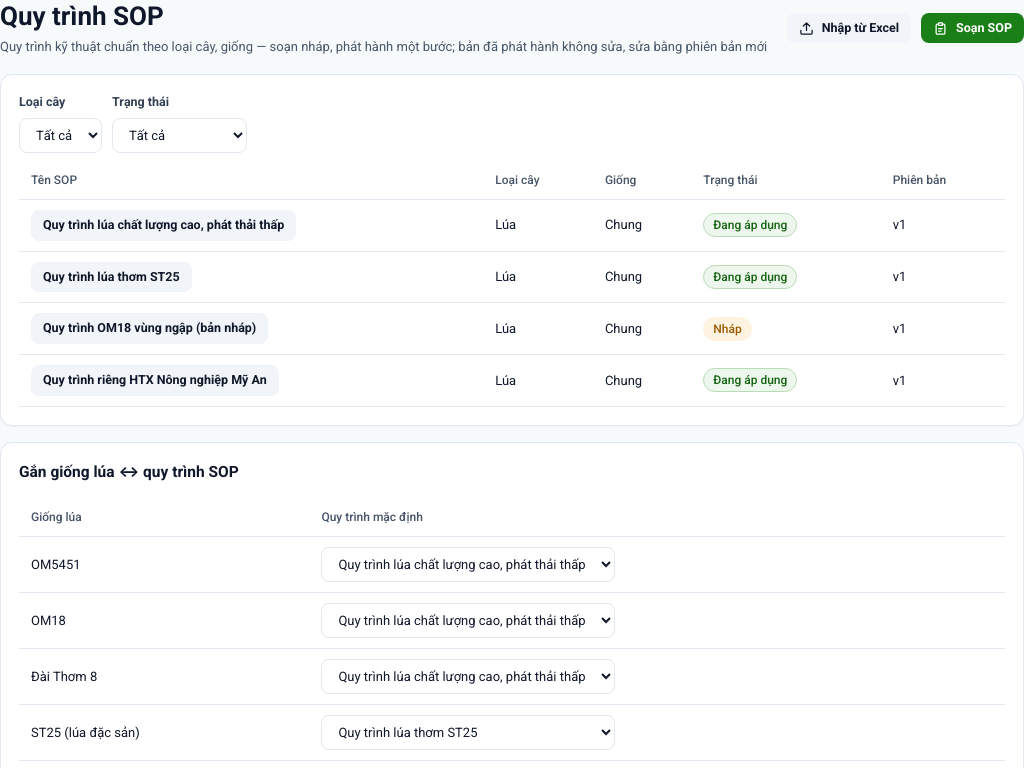
Test: Màn Quy trình SOP (AH-8) › AC1: thư viện liệt kê tên, loại cây, giống, trạng thái, phiên bản; soạn và lưu → SOP ở trạng thái Nháp
This screenshot has width=1024, height=768.
expect the button "Quy trình lúa thơm ST25" is shown: met, box [31,262,192,292]
expect the 1st text "Chung" is shown: met, box [593,200,691,251]
Click the button "Soạn SOP": (973, 28) [921,13,1023,43]
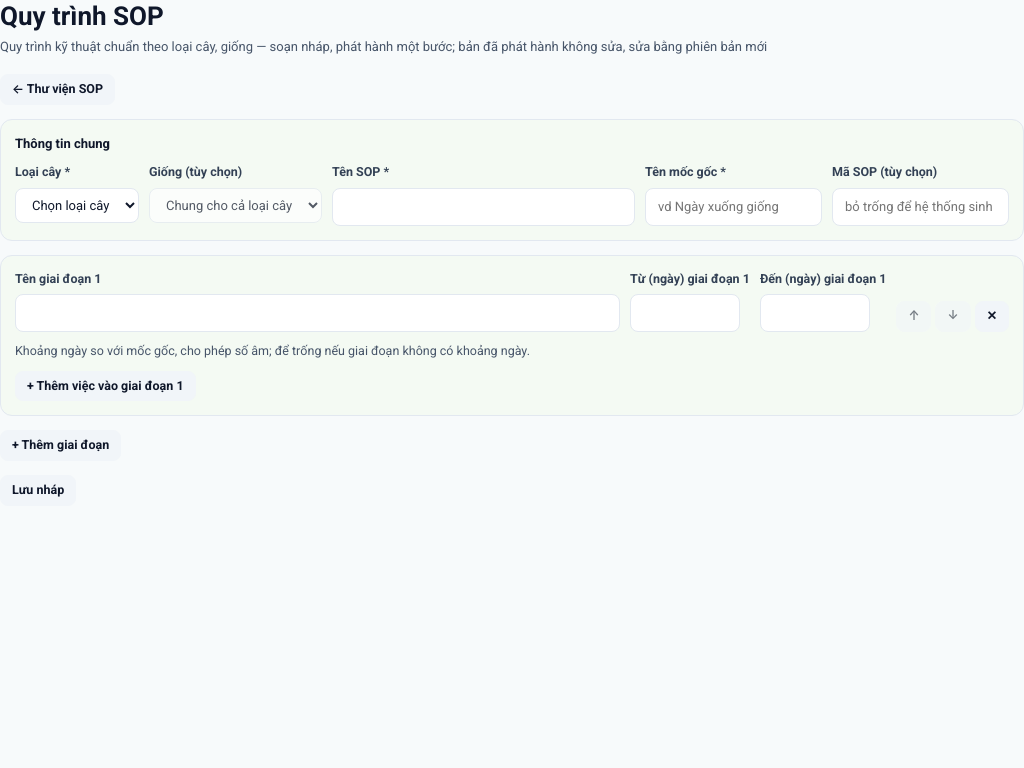
expect the element "Thông tin chung" is shown: met, box [0,119,1023,241]
Select "Lúa" in the dropdown labelled "Loại cây *": (77, 206) [15,188,139,223]
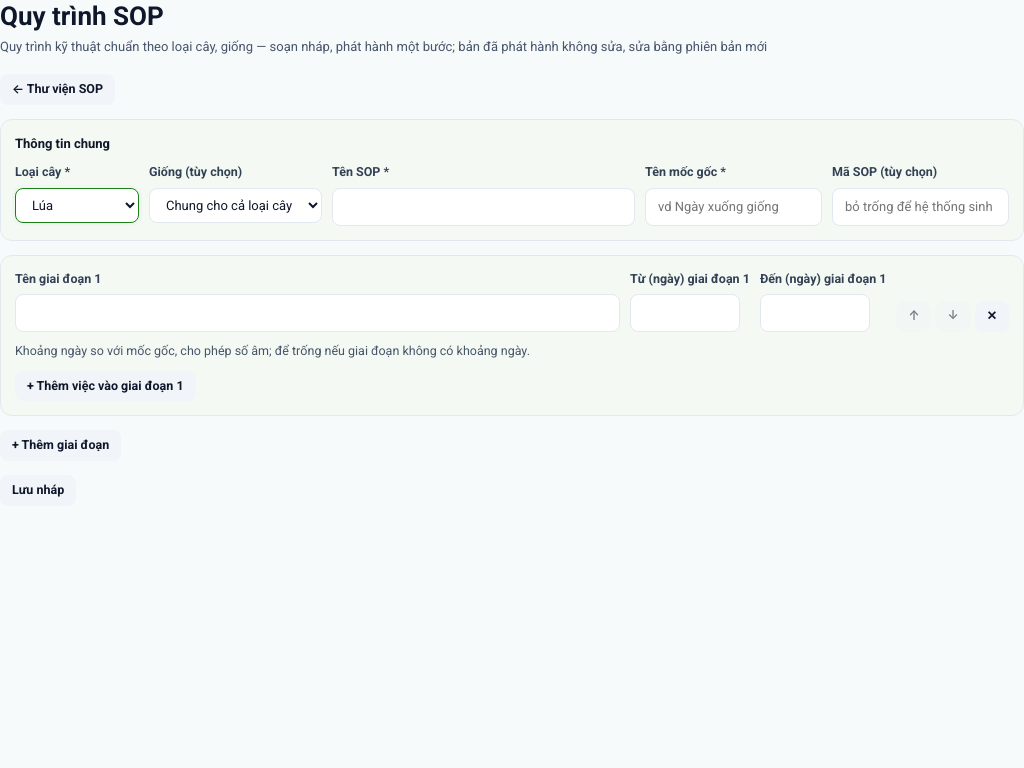
In the field labelled "Tên SOP *": (484, 207) [332,188,635,226], type "SOP thử màn hình AC1"
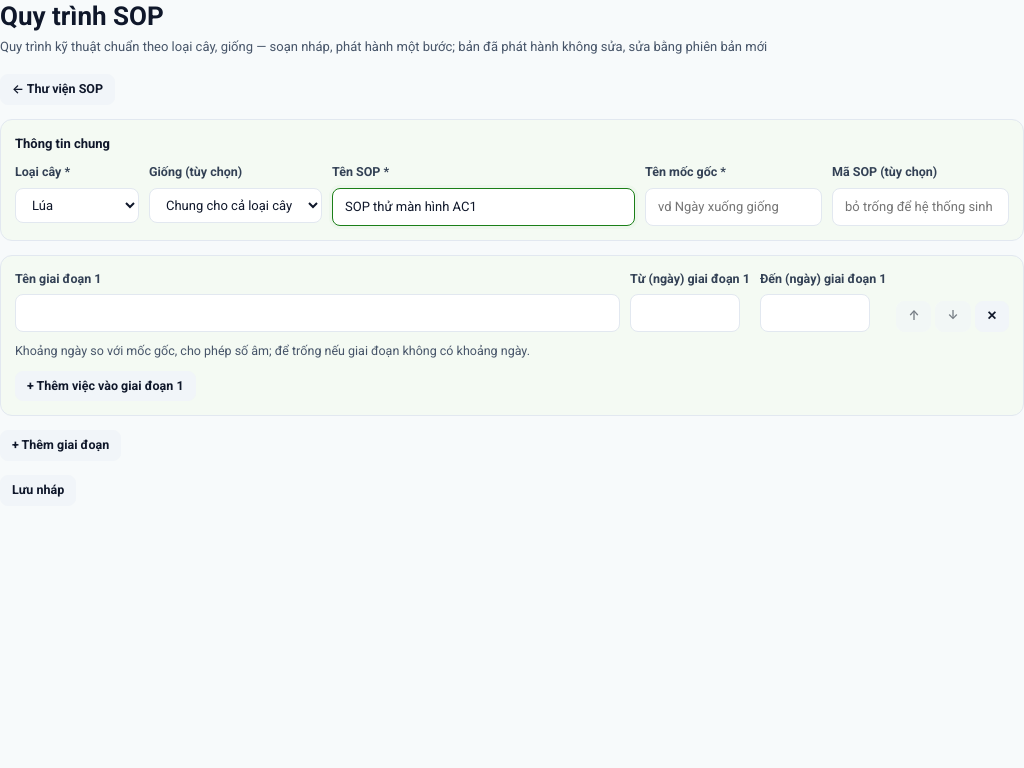
In the field labelled "Tên mốc gốc *": (734, 207) [645,188,822,226], type "Ngày xuống giống"
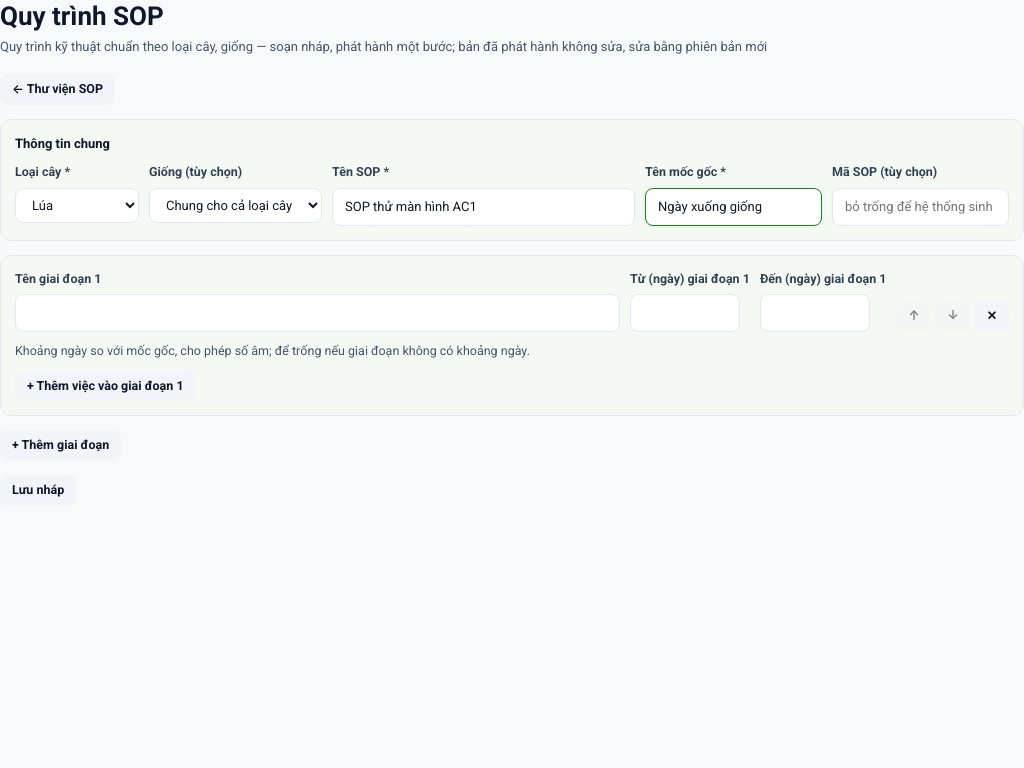
In the field labelled "Tên giai đoạn 1": (318, 313) [15,294,620,332], type "Chuẩn bị"
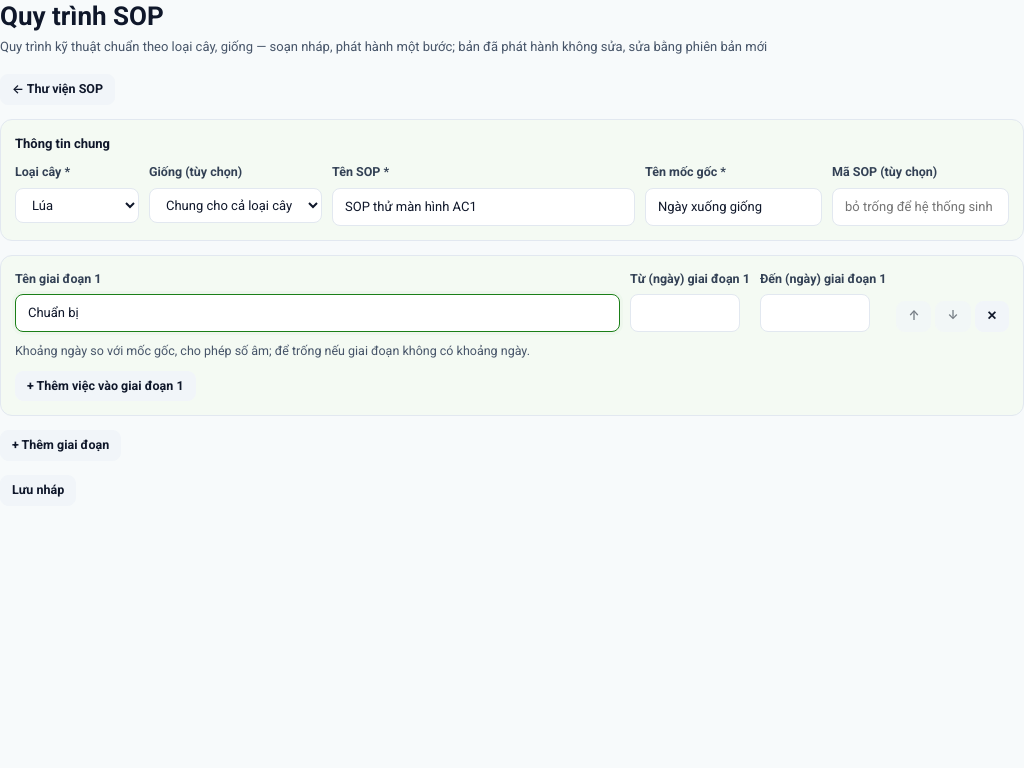
Click the button "Lưu nháp": (38, 490) [0,475,76,506]
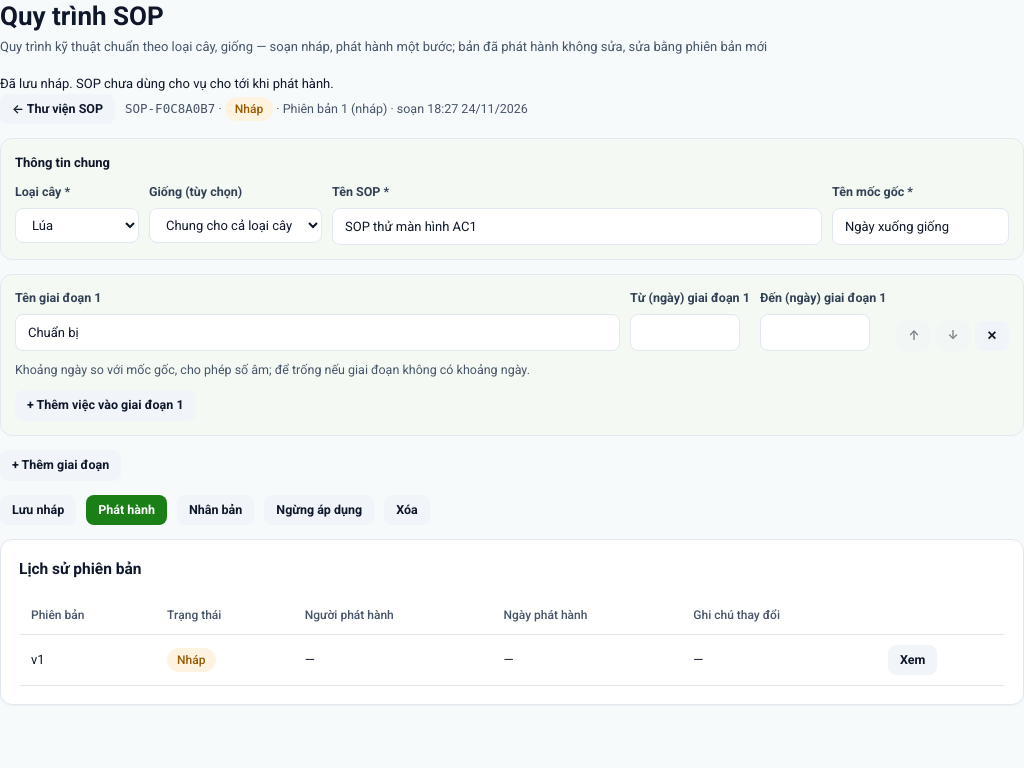
expect the field labelled "Tên SOP *" holds "SOP thử màn hình AC1": met, box [332,208,822,245]
expect the message shows "Đã lưu nháp": met, box [0,76,334,91]
expect the text "Nháp" next to "SOP-F0C8A0B7" is shown: met, box [235,102,263,116]
